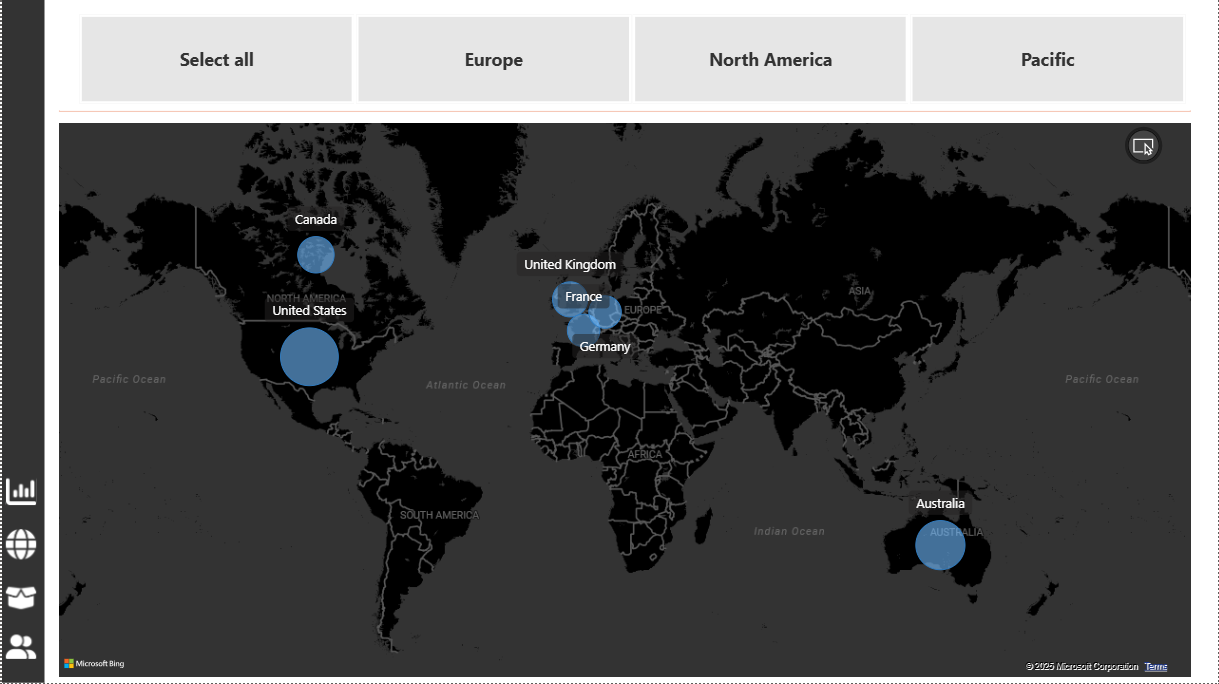

The page's visual inventory and layout, read from the dashboard file:
{"tool":"powerbi","page":{"name":"Map","canvas":[1280,720],"ordinal":1},"visuals":[{"type":"shape","box":[0,0,44.7,719.7],"z":0},{"type":"actionButton","box":[0,498.8,45,40],"z":1000,"group":"g1"},{"type":"map","fields":{"Category":["Territory Lookup.Country"],"Size":["Measure Table.Total Orders"]},"box":[55.1,87.2,1201.3,632.1],"z":1000},{"type":"slicer","fields":{"Values":["Territory Lookup.Continent"]},"box":[55.1,9,1214.1,107.7],"z":2000},{"type":"actionButton","box":[0,553.8,45,40],"z":2000,"group":"g1"},{"type":"actionButton","box":[0,610,45,40],"z":3000,"group":"g1"},{"type":"group","id":"g1","title":"Navigation Buttons","box":[0,498.8,45,203.8],"z":3000},{"type":"actionButton","box":[0,662.6,45,40],"z":4000,"group":"g1"}]}

Visuals, with their boxes on the page's 1280x720 design canvas (x1, y1, x2, y2). These are canvas units, not pixel positions in the 1219x684 screenshot, which may show the page scaled, cropped or inside an application window:
shape: x1=0 y1=0 x2=45 y2=720
actionButton: x1=0 y1=499 x2=45 y2=539
map - Territory Lookup.Country x Measure Table.Total Orders: x1=55 y1=87 x2=1256 y2=719
slicer - Territory Lookup.Continent: x1=55 y1=9 x2=1269 y2=117
actionButton: x1=0 y1=554 x2=45 y2=594
actionButton: x1=0 y1=610 x2=45 y2=650
"Navigation Buttons" group: x1=0 y1=499 x2=45 y2=703
actionButton: x1=0 y1=663 x2=45 y2=703
